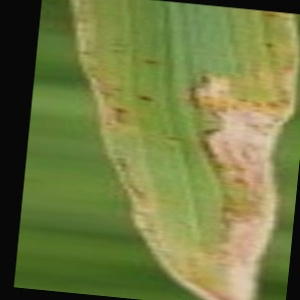Leaf_Blast: (133, 12, 288, 299)
